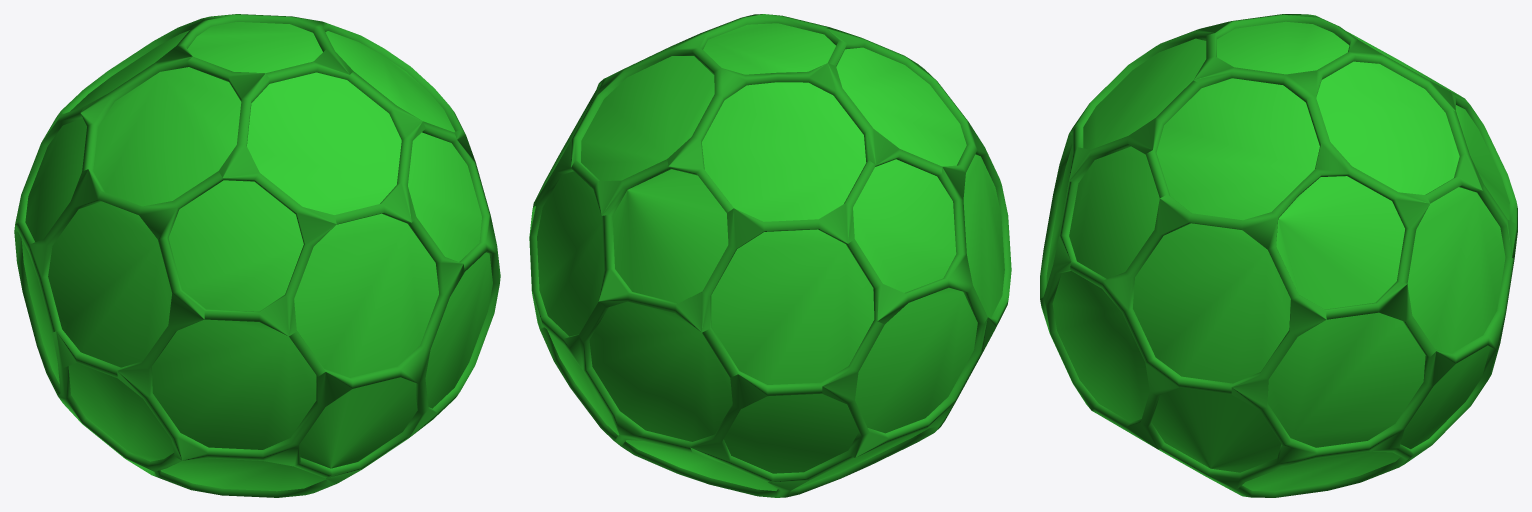
The model's file is Ball.obj.
3 views of the same model, side by side, from view 1: azimuth 30°, elevation 25°; view 2: azimuth 150°, elevation 25°; view 3: azimuth 270°, elevation 25° (orthographic).
Parts seen in each view (by area): view 1: classic_soccer_ball.2, classic_soccer_ball; view 2: classic_soccer_ball.2, classic_soccer_ball; view 3: classic_soccer_ball.2, classic_soccer_ball.
Boxes of the visible parts, box(x1,y1,x2,y2) form: classic_soccer_ball.2: box(21, 22, 492, 491); classic_soccer_ball: box(14, 14, 500, 497); classic_soccer_ball.2: box(537, 23, 1004, 490); classic_soccer_ball: box(529, 14, 1011, 497); classic_soccer_ball.2: box(1046, 21, 1509, 491); classic_soccer_ball: box(1040, 14, 1517, 497).
Bounding box in the file's own units: 19.97 × 19.31 × 19.73.
